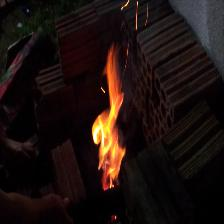fire: (76, 39, 144, 199)
